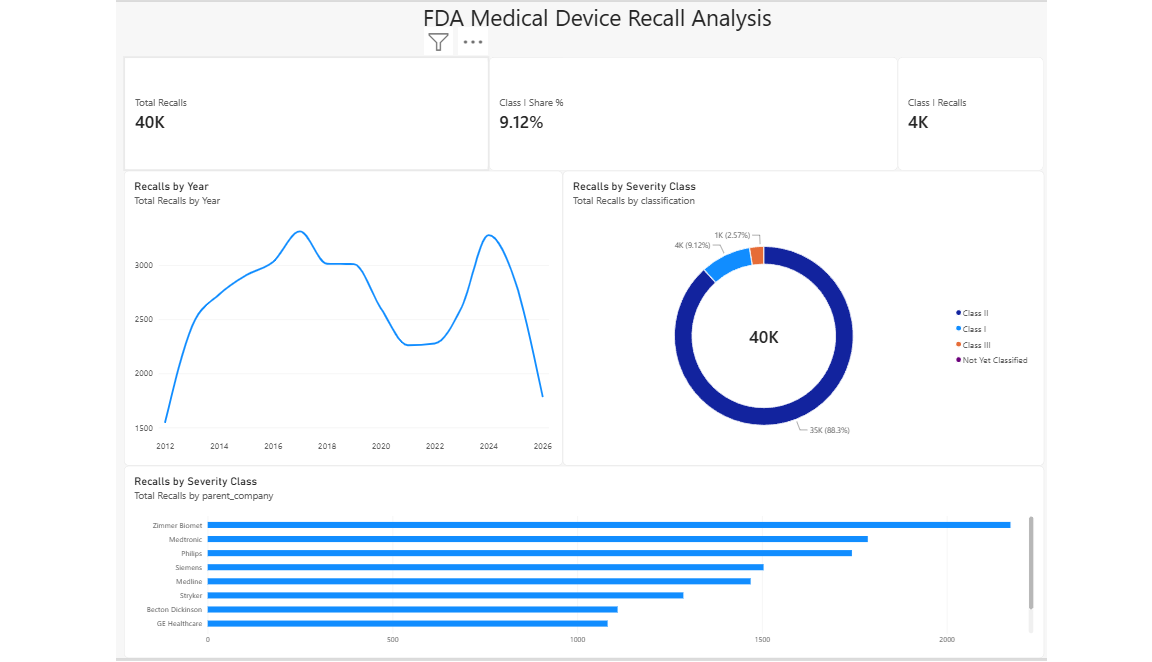

What the dashboard file says about the page in this screenshot:
{"tool":"powerbi","page":{"name":"Overview","canvas":[1920,1080],"ordinal":0},"visuals":[{"type":"cardVisual","fields":{"Data":["_Measures.Total Recalls"]},"box":[197.6,90.6,601,187.3],"z":0},{"type":"cardVisual","fields":{"Data":["_Measures.Class I Recalls"]},"box":[1471.7,90.6,240.8,187.3],"z":1},{"type":"cardVisual","fields":{"Data":["_Measures.Class I Share %"]},"box":[798.6,90.6,673.1,187.3],"z":2},{"type":"lineChart","title":"Recalls by Year","fields":{"Category":["DimDate.Year"],"Y":["_Measures.Total Recalls"]},"box":[197.6,277.9,722.5,485.8],"z":3},{"type":"donutChart","title":"Recalls by Severity Class","fields":{"Category":["DimClass.classification"],"Y":["_Measures.Total Recalls"]},"box":[920.1,277.9,792.5,485.8],"z":4},{"type":"barChart","title":"Recalls by Severity Class","fields":{"Category":["DimManufacturer.parent_company"],"Y":["_Measures.Total Recalls"]},"box":[197.6,763.6,1514.9,317],"z":5},{"type":"textbox","box":[45.3,0,1827.8,65.9],"z":6}]}

Visuals, with their boxes in screenshot pixels (x1, y1, x2, y2), scaled from the page's 1920x1080 canvas onto the 1152x662 screenshot:
cardVisual - _Measures.Total Recalls: bbox=[119, 56, 479, 170]
cardVisual - _Measures.Class I Recalls: bbox=[883, 56, 1028, 170]
cardVisual - _Measures.Class I Share %: bbox=[479, 56, 883, 170]
"Recalls by Year" lineChart: bbox=[119, 170, 552, 468]
"Recalls by Severity Class" donutChart: bbox=[552, 170, 1028, 468]
"Recalls by Severity Class" barChart: bbox=[119, 468, 1028, 661]
textbox: bbox=[27, 0, 1124, 40]
